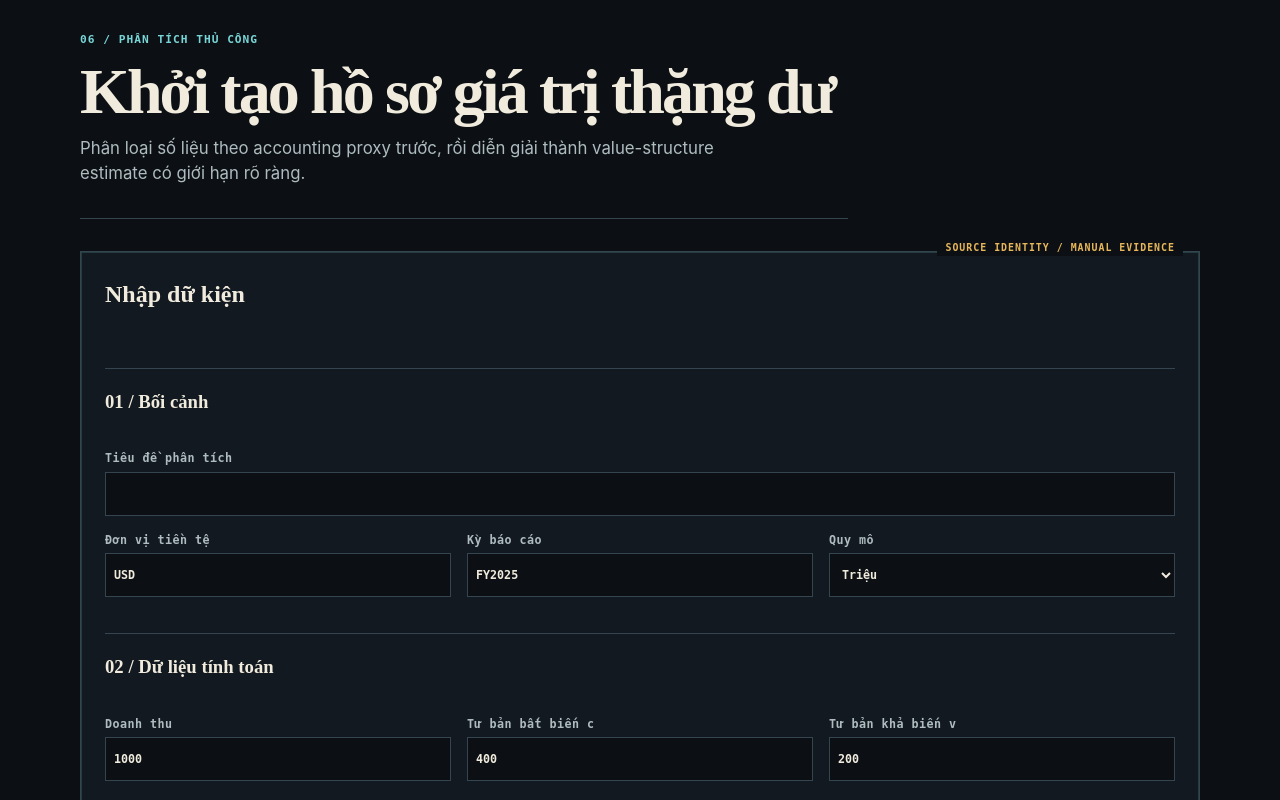
Scenario: ScannerPage › retries only calculation when creation succeeded before calculation failed
Step 1. Type "Cloud Platform 2025" into the field labelled "Tiêu đề phân tích" → (640, 494), box [105, 472, 1175, 516]
(page scrolled)
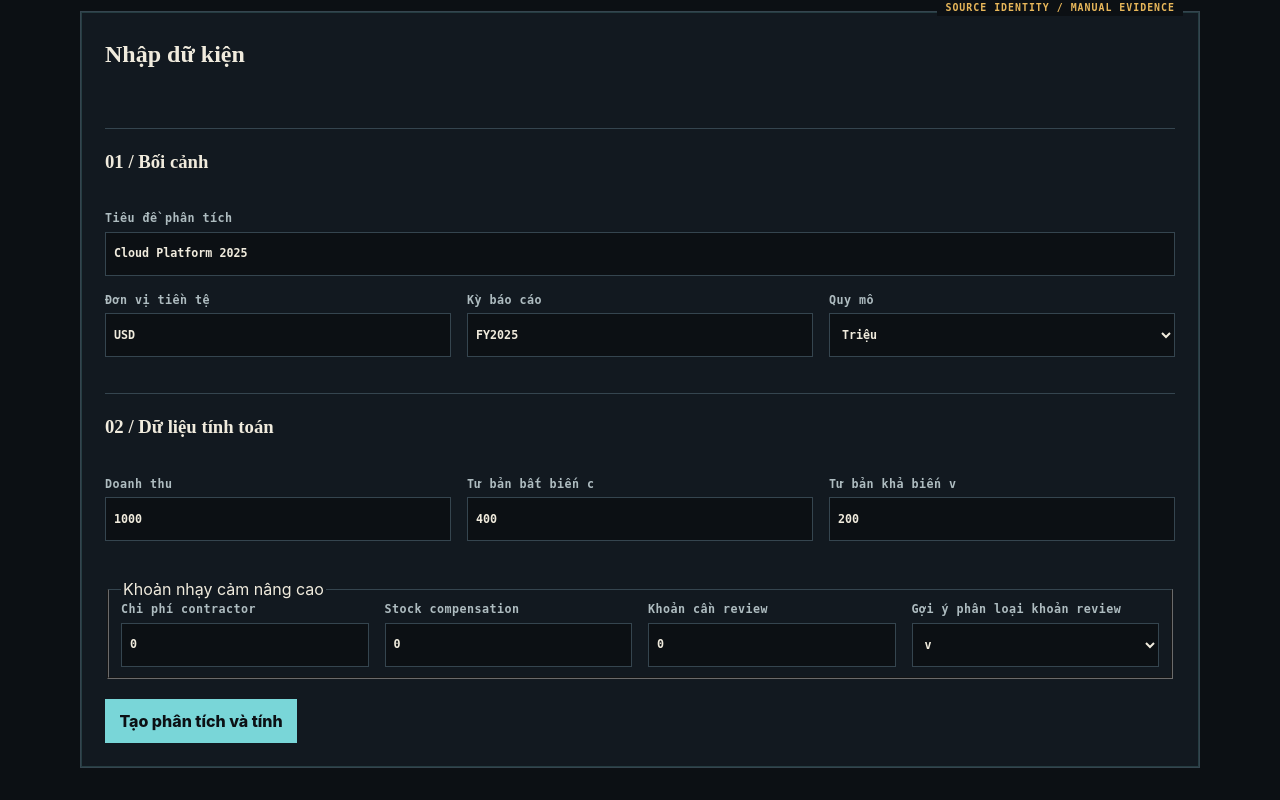
Step 2. Click the button "Tạo phân tích và tính" → (201, 721), box [105, 699, 297, 743]
(page scrolled)
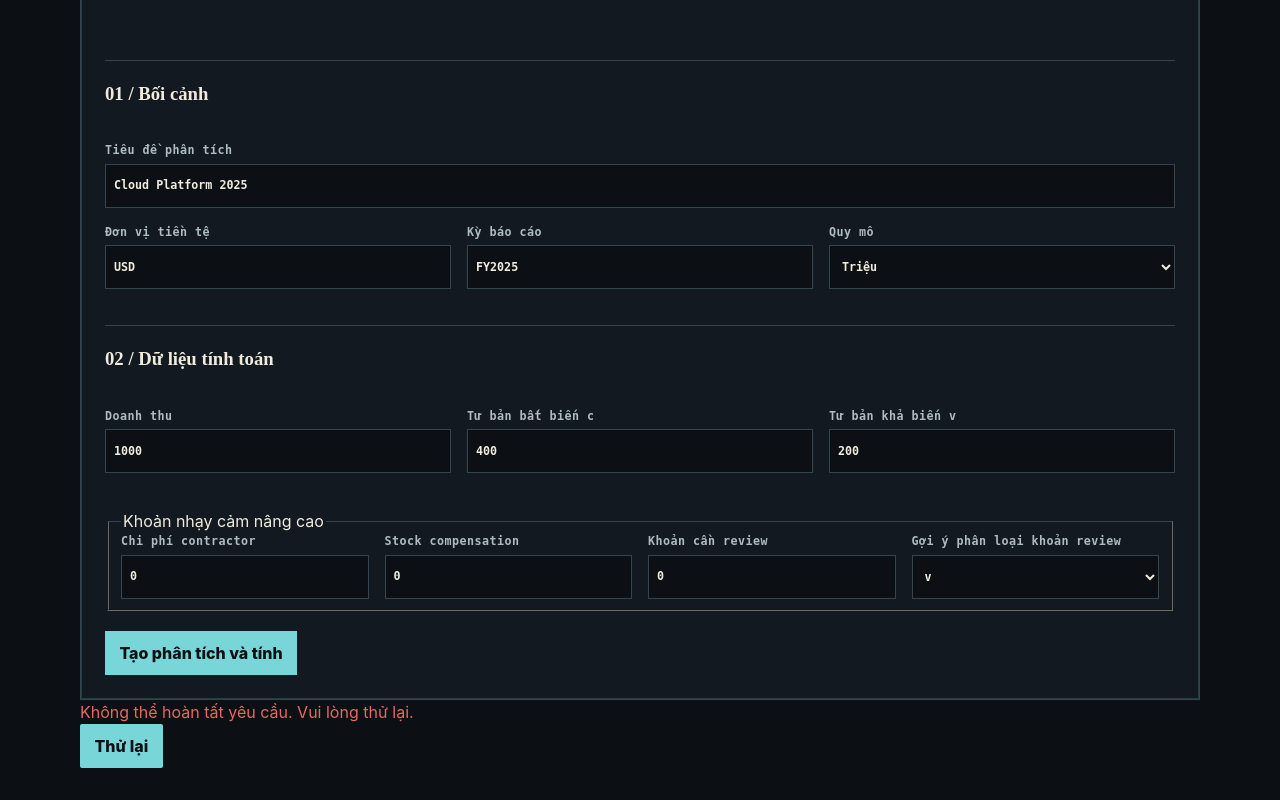
Check: the message shows "Không thể hoàn tất", box [80, 702, 414, 722]
Step 3. Click the button "Thử lại" → (121, 746), box [80, 724, 163, 768]
(page scrolled)
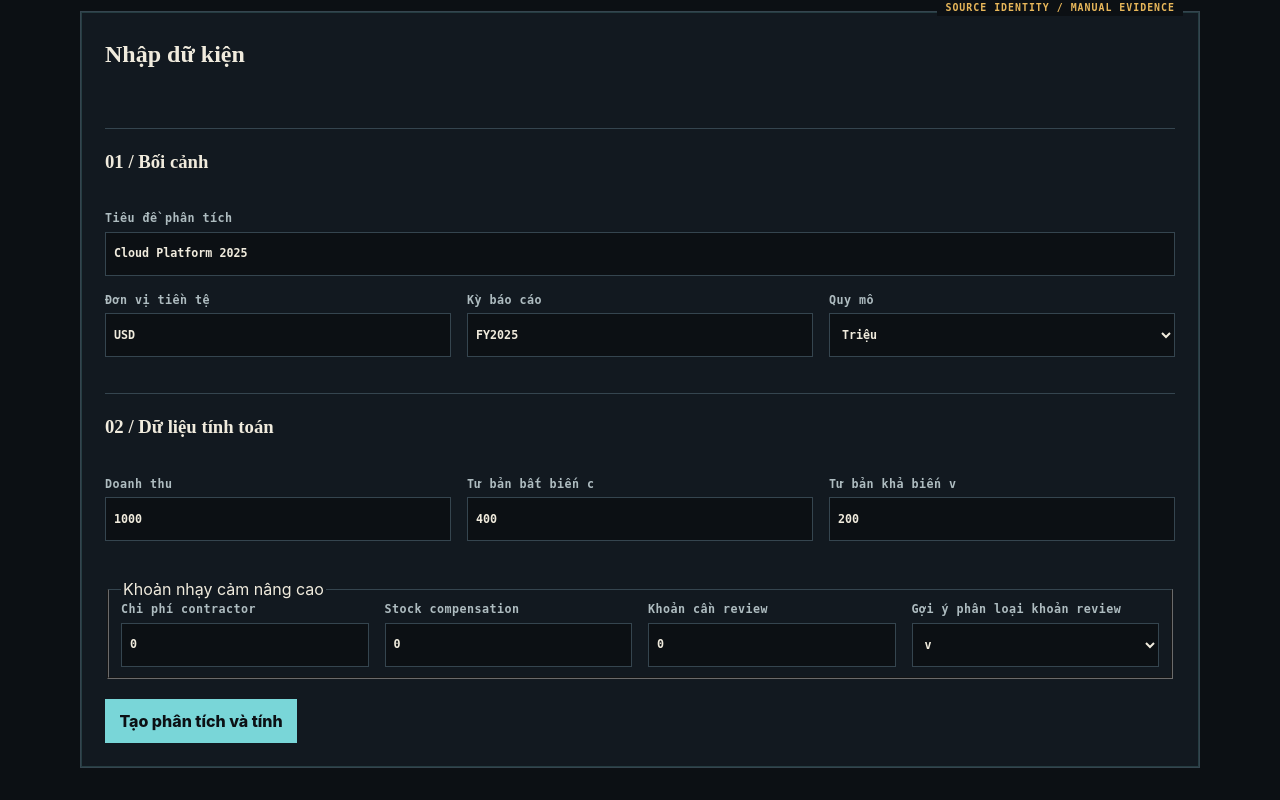
Check: the message "Không thể hoàn tất yêu cầu. Vui lòng thử lại." is gone
